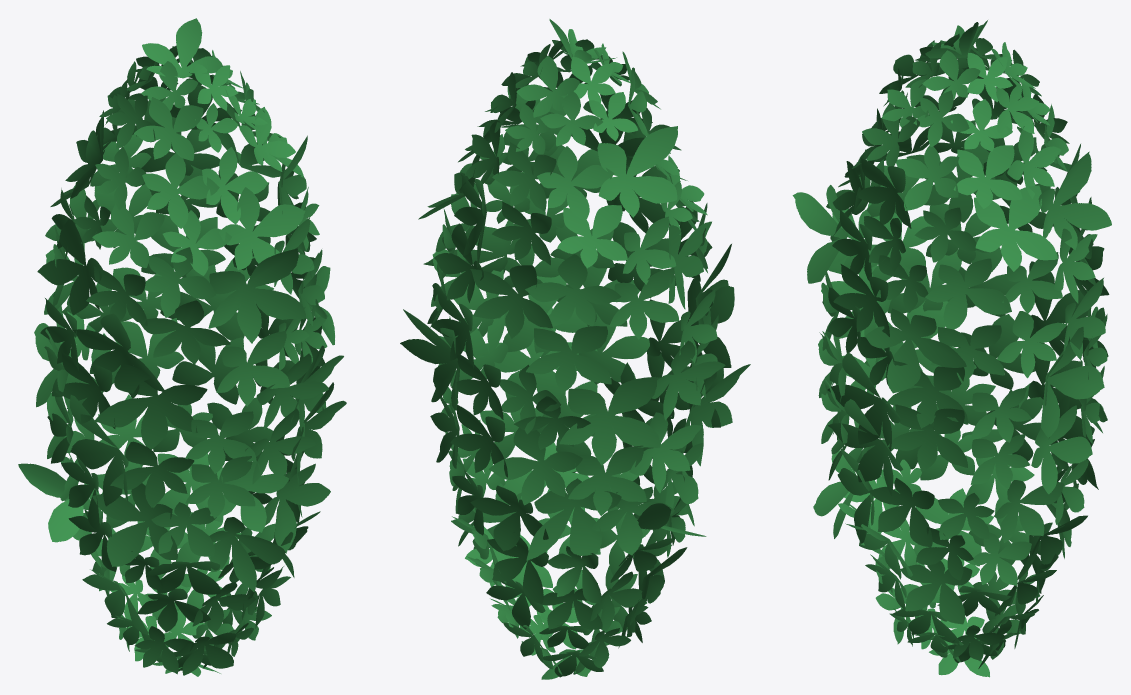
Rendered from Map01_Flower01.FBX.
3 renders of one model, left to right at view 1: azimuth 30°, elevation 25°; view 2: azimuth 150°, elevation 25°; view 3: azimuth 270°, elevation 25°, orthographic.
Visible parts, largest first — view 1: Map01_Flower01; view 2: Map01_Flower01; view 3: Map01_Flower01.
Part boxes in pixels (x1,y1,x2,y2): Map01_Flower01: (18,18,346,676); Map01_Flower01: (400,19,750,679); Map01_Flower01: (792,20,1111,677).
Size of the model in its own units: 142 by 298 by 135.
1 material, 1 textured.
